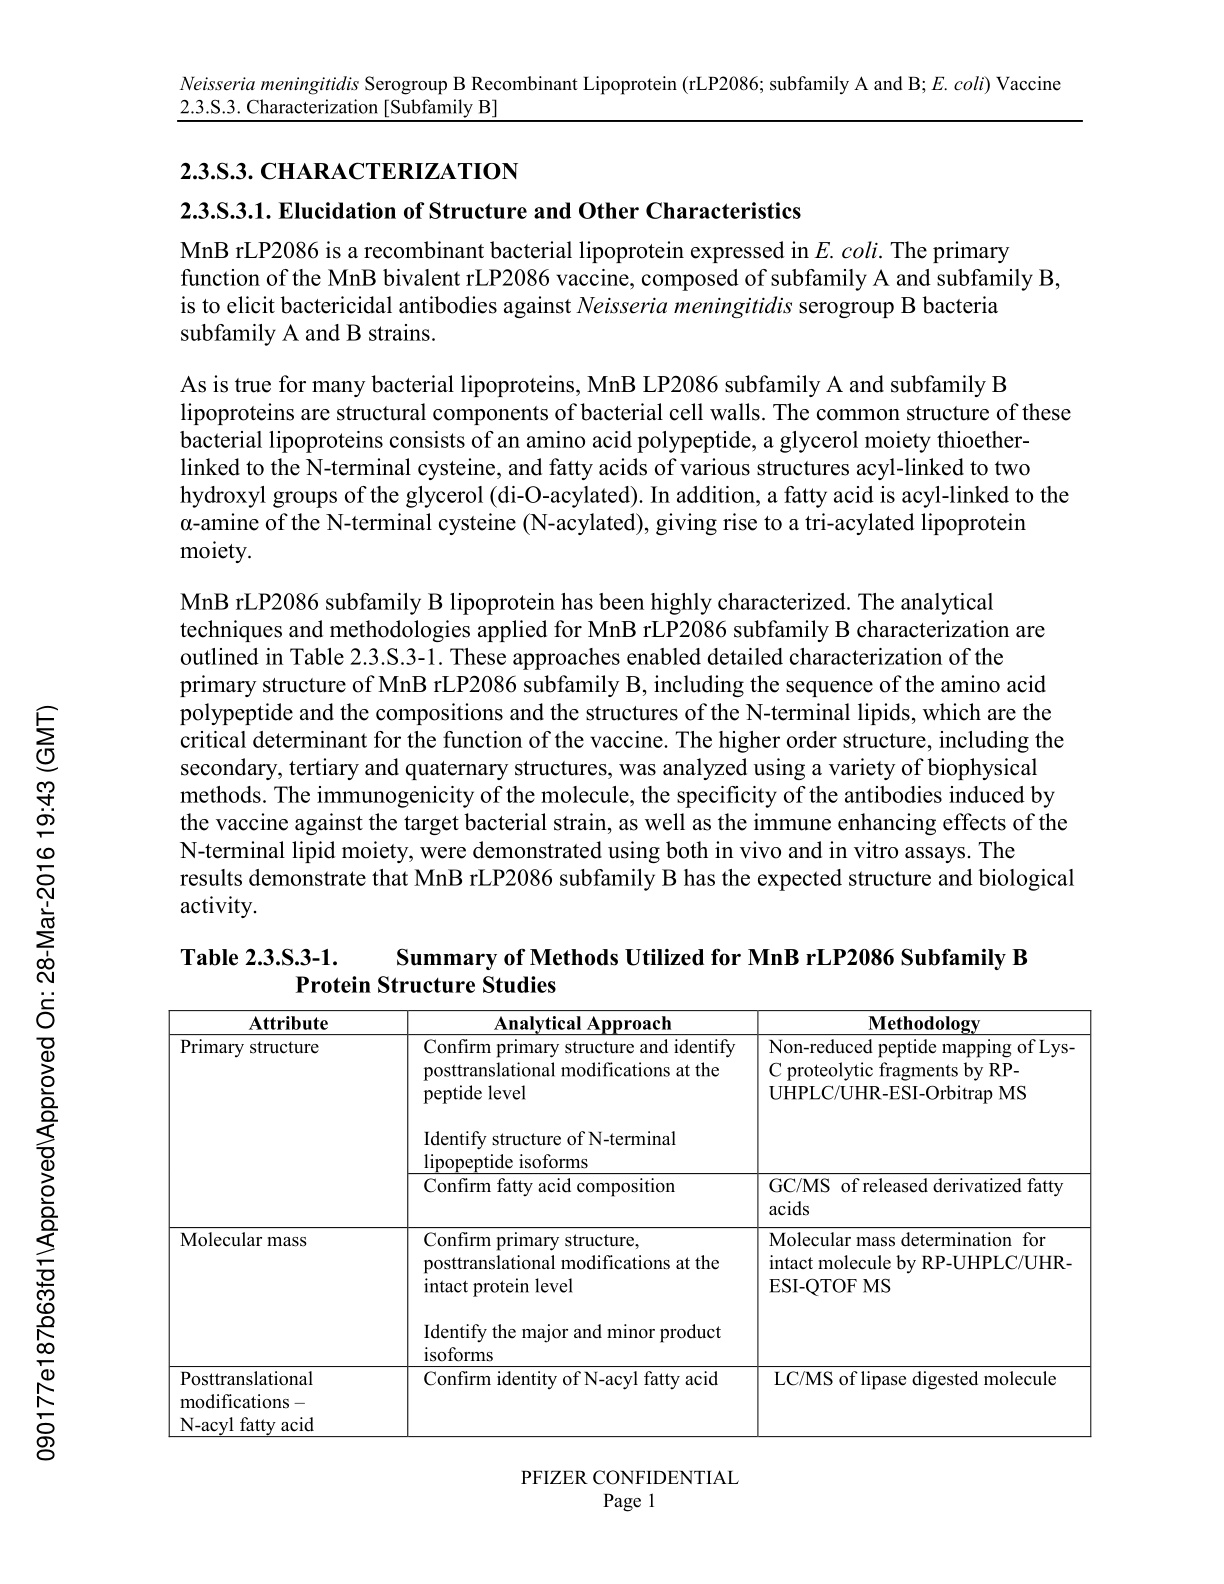full_lined: (168, 1011, 1092, 1437)
